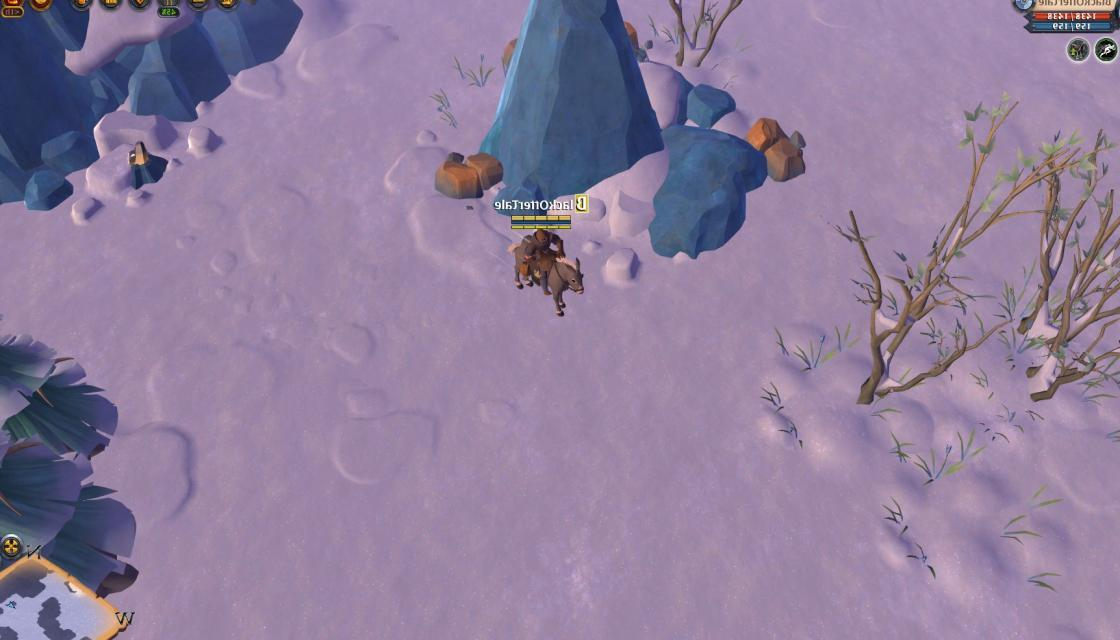copperore: (122, 137, 172, 189)
limestone: (742, 114, 812, 188), (433, 142, 509, 208)
